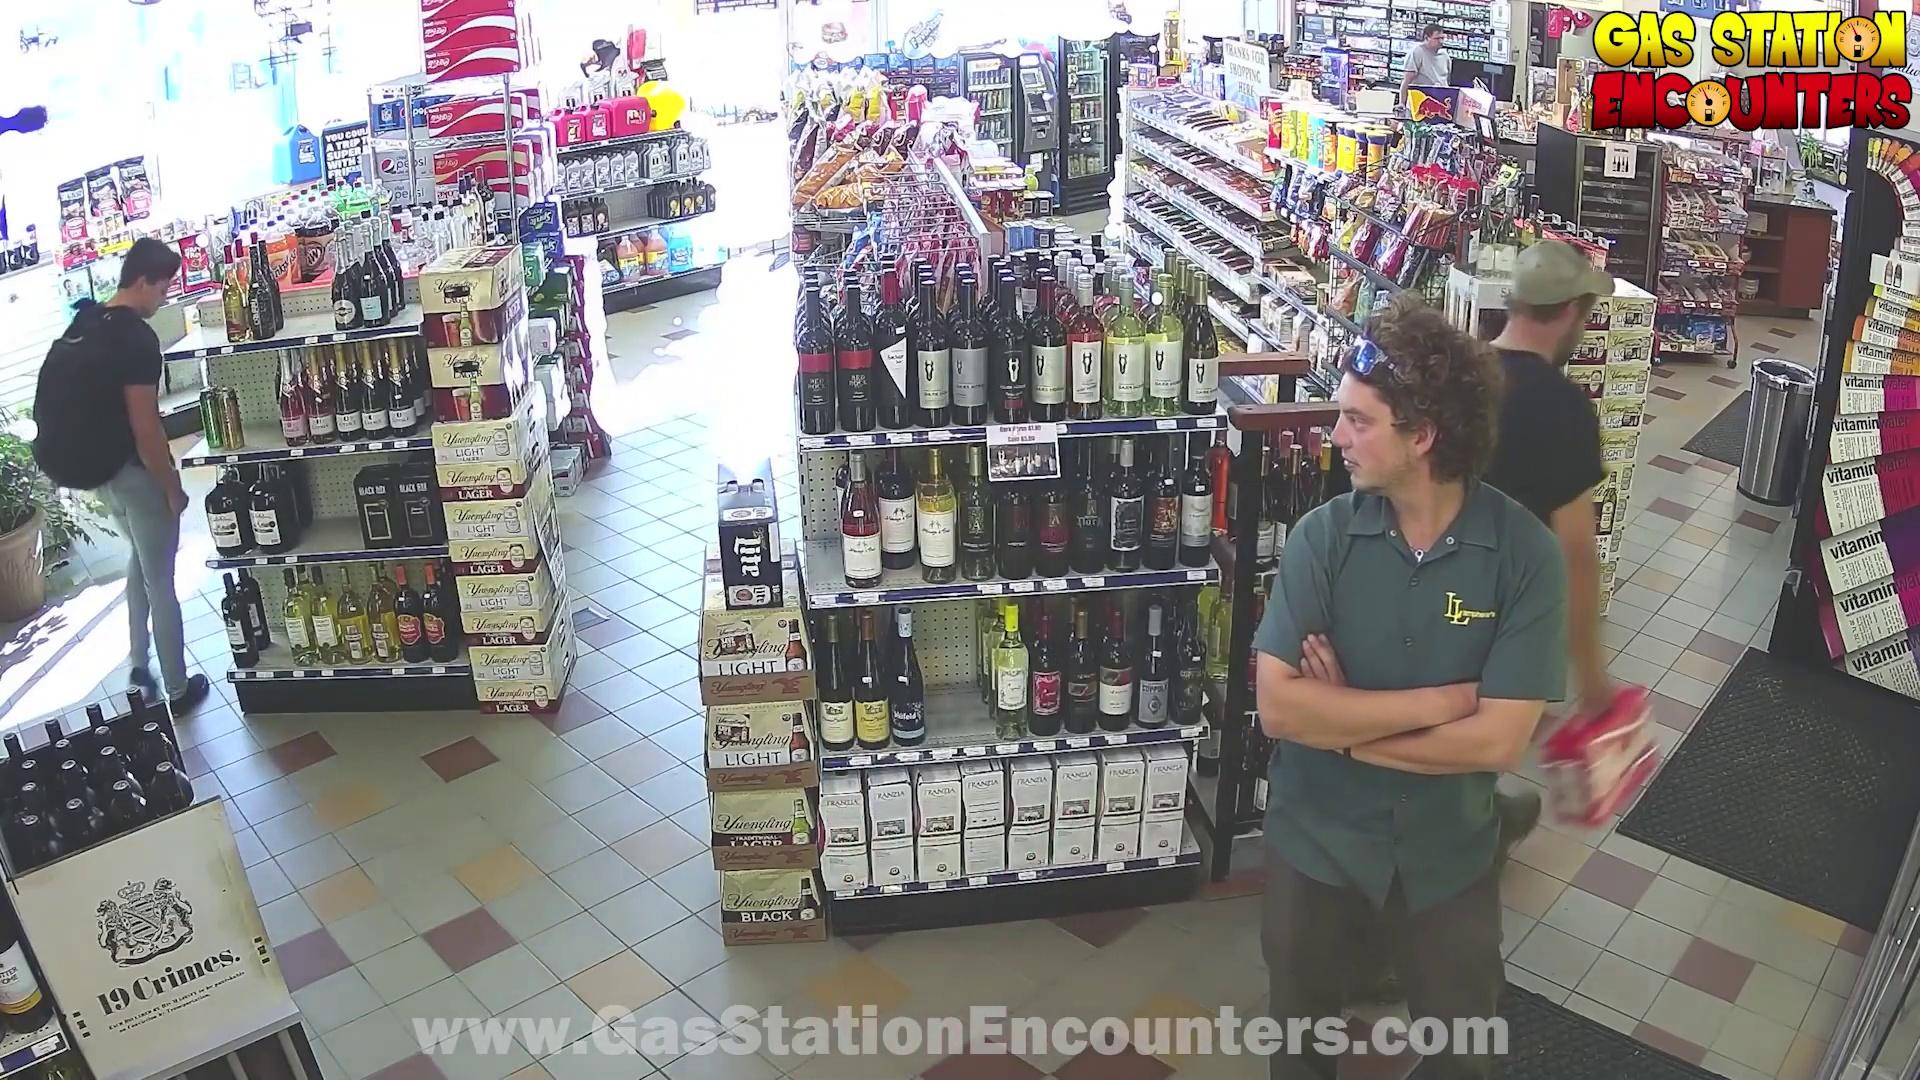1: (1561, 711, 1659, 802)
2: (1470, 227, 1651, 380)
3: (1195, 260, 1639, 1080), (5, 229, 237, 713)
persone: (30, 313, 133, 497)
